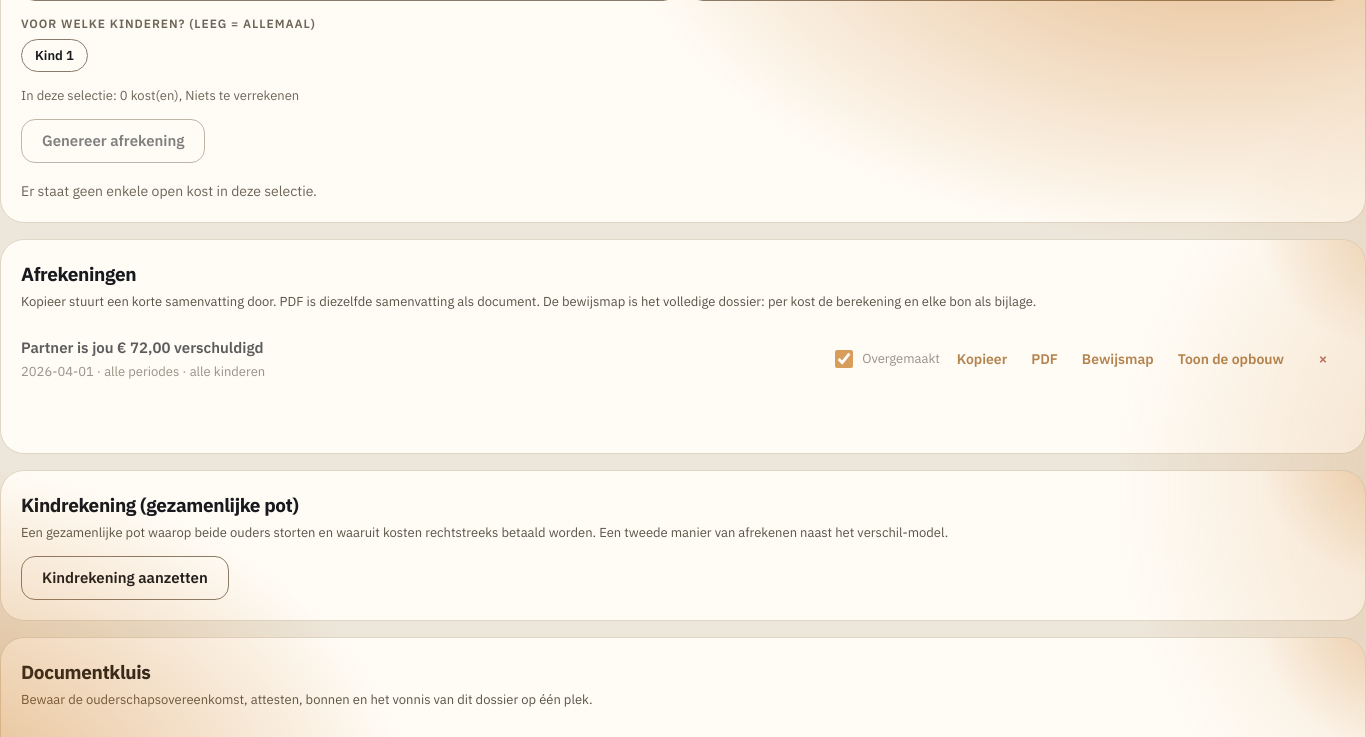
Scenario: DossierSectie — een afrekening verwijderen › zegt erbij welke kosten weer op "nog niet afgerekend" komen
The width and height of the screenshot is (1366, 737).
(page scrolled)
Click the button named "Verwijder afrekening 1 apr 2026".
click(1323, 359)  # box [1301,337,1345,381]
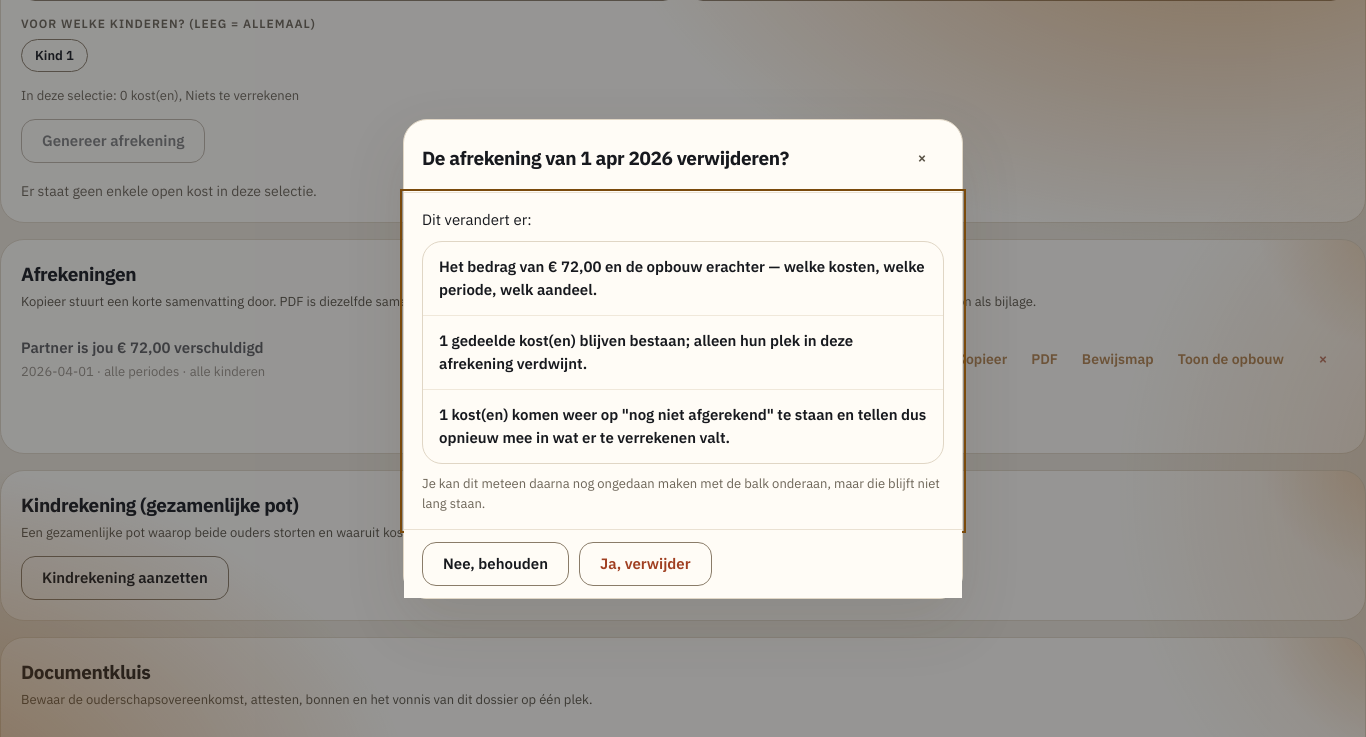
Expected: the text "1 kost(en) komen weer op" is shown, [439,405,926,447]
